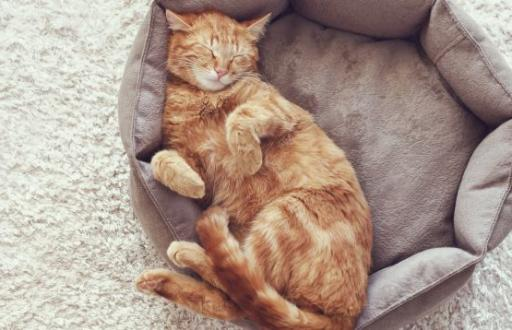cat_sleeping: (137, 9, 372, 328)
